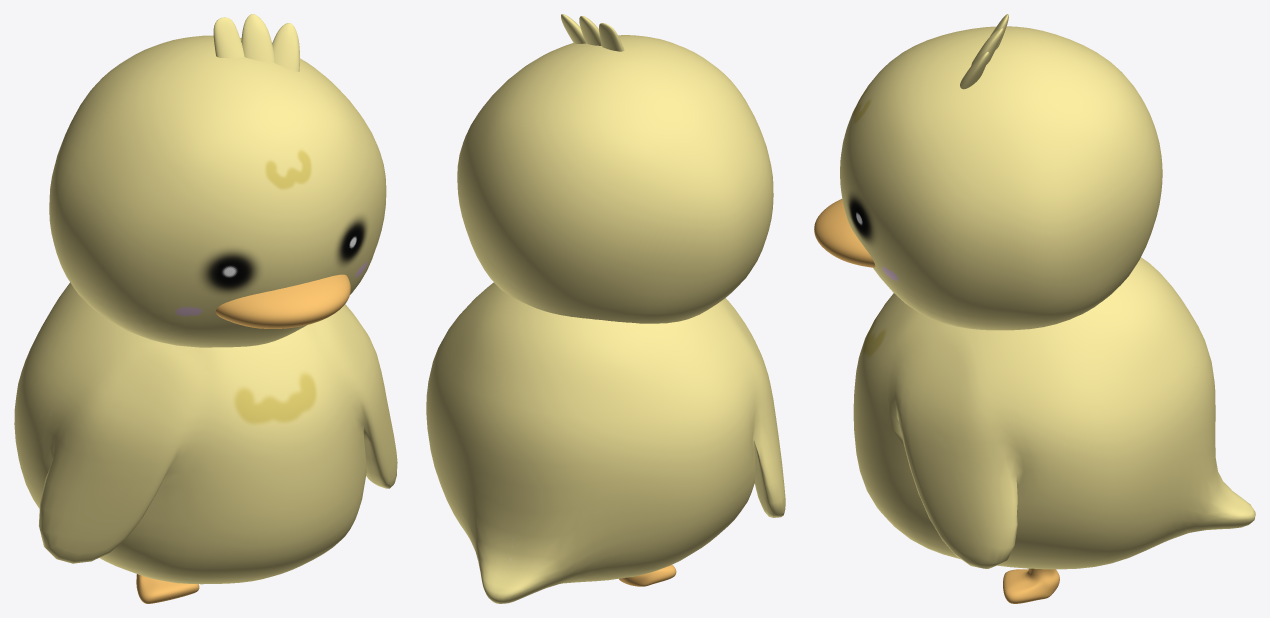
The model's file is duckling 1.fbx.
The picture shows the model from 3 angles, left to right: view 1: azimuth 30°, elevation 25°; view 2: azimuth 150°, elevation 25°; view 3: azimuth 270°, elevation 25°; orthographic projection. The views are drawn at different scales.
Parts seen in each view (by area): view 1: ducklingbody.003, ducklinghead.003, ducklingbeak.002, duckling tuft.002, ducking rightfoot.003; view 2: ducklingbody.003, ducklinghead.003, duckling tuft.002, ducking rightfoot.003; view 3: ducklingbody.003, ducklinghead.003, ducklingbeak.002, ducklingleftfoot.003, duckling tuft.002.
Part boxes in pixels (left/top/right/bottom): ducklingbody.003: left=14, top=282, right=397, bottom=584; ducklinghead.003: left=49, top=35, right=386, bottom=347; ducklingbeak.002: left=215, top=274, right=350, bottom=328; duckling tuft.002: left=213, top=14, right=299, bottom=71; ducking rightfoot.003: left=136, top=574, right=199, bottom=603; ducklingbody.003: left=426, top=282, right=785, bottom=603; ducklinghead.003: left=457, top=35, right=773, bottom=323; duckling tuft.002: left=561, top=14, right=624, bottom=51; ducking rightfoot.003: left=619, top=565, right=676, bottom=586; ducklingbody.003: left=853, top=257, right=1255, bottom=569; ducklinghead.003: left=840, top=26, right=1162, bottom=330; ducklingbeak.002: left=814, top=199, right=875, bottom=267; ducklingleftfoot.003: left=1003, top=568, right=1059, bottom=603; duckling tuft.002: left=960, top=14, right=1008, bottom=89.
Size of the model in its own units: 49.7 by 77.64 by 55.65.
3 materials, 1 textured.
